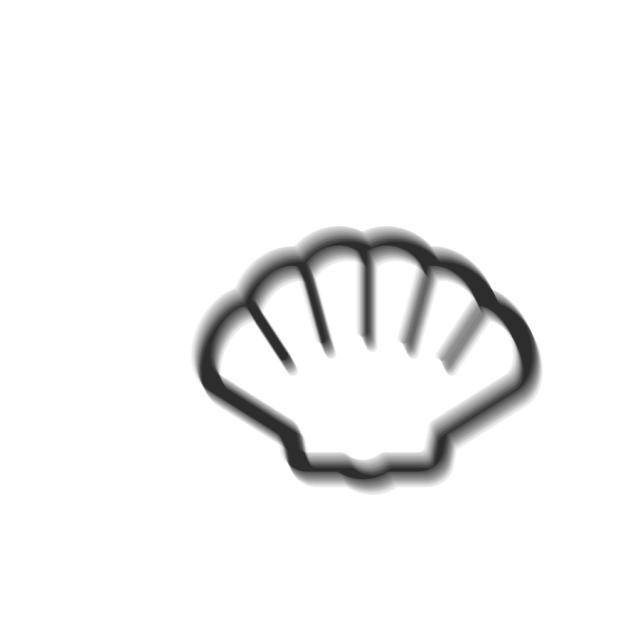shell: (187, 221, 548, 500)
